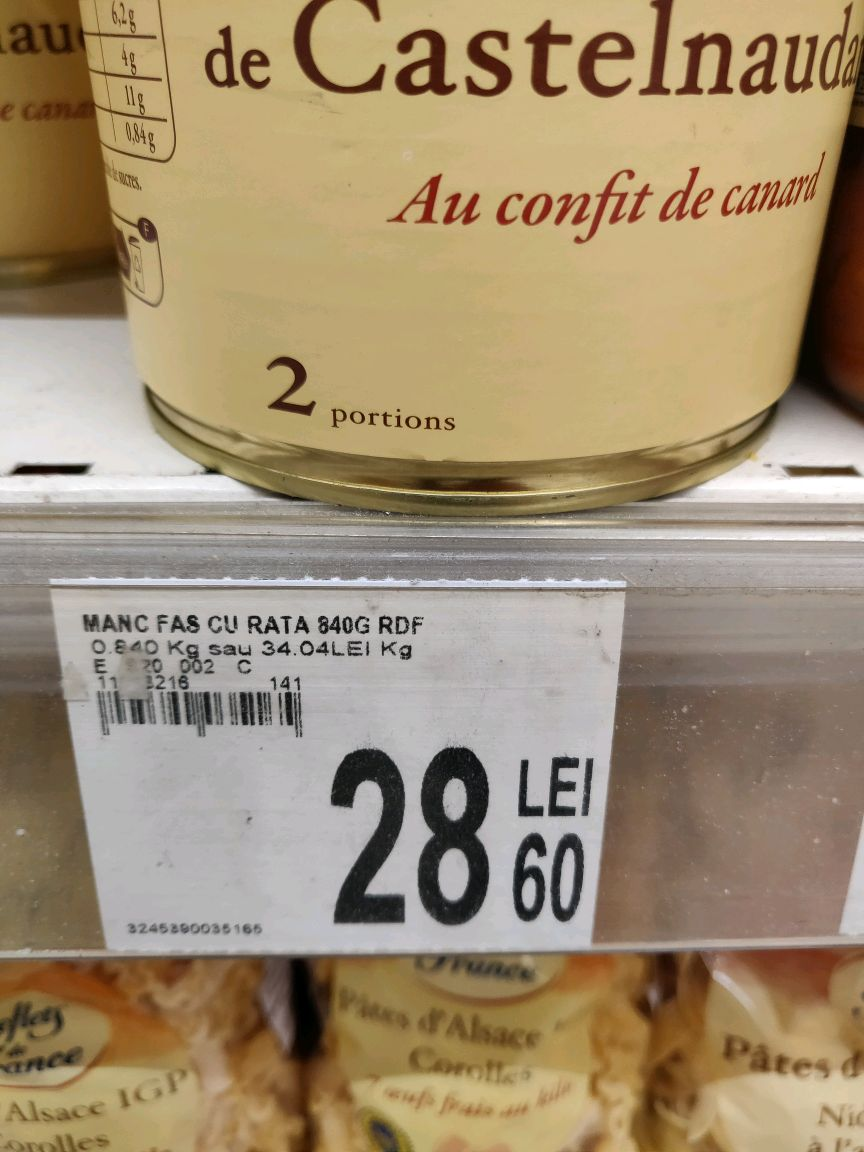price_bani: (505, 825, 591, 934)
price_lei: (322, 736, 496, 934)
price_tag: (37, 577, 668, 964)
product_id: (119, 914, 271, 941)
product_name: (75, 604, 435, 637)
